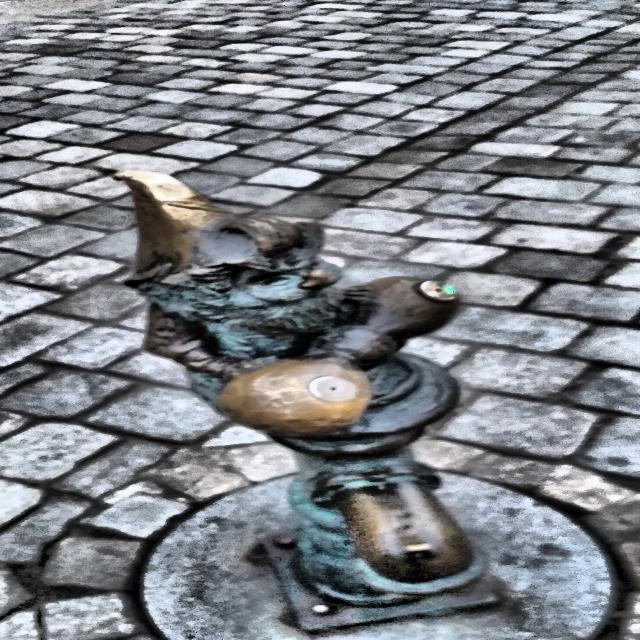Orzezwiacz: (115, 172, 484, 612)
